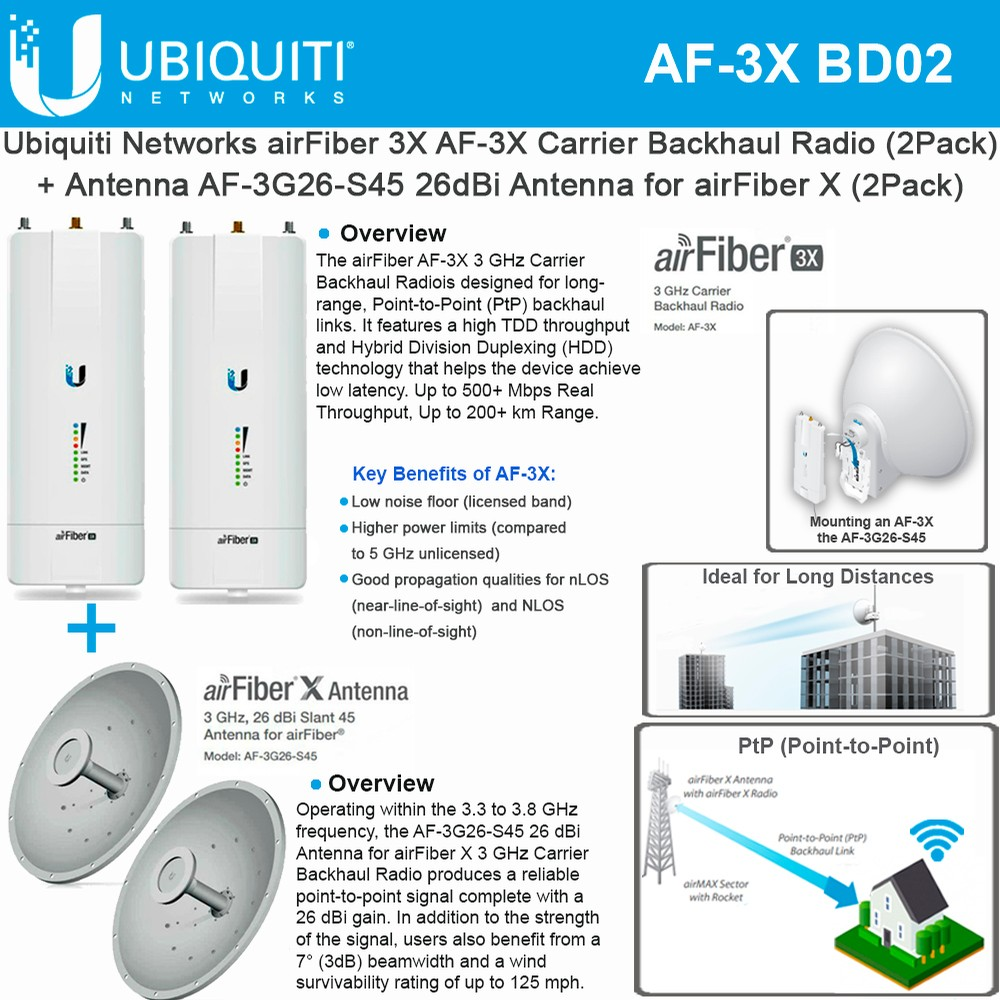ba: (797, 319, 972, 510)
